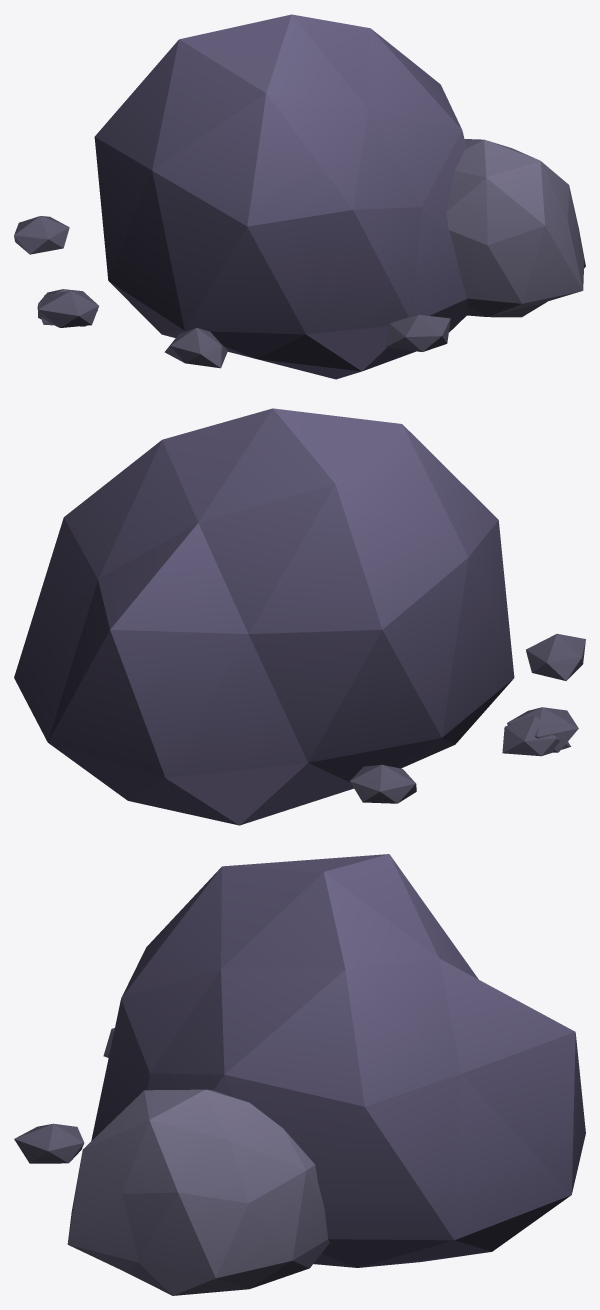
Rendered from boulder.glb.
The picture shows the model from 3 angles, top to bottom: view 1: azimuth 30°, elevation 25°; view 2: azimuth 150°, elevation 25°; view 3: azimuth 270°, elevation 25°; orthographic projection. The views are drawn at different scales.
Parts seen in each view (by area): view 1: t0_rock, t0_rock_light; view 2: t0_rock, t0_rock_light; view 3: t0_rock, t0_rock_light.
Boxes of the visible parts, x1,y1,x2,y2 form: t0_rock: (94,14,467,379); t0_rock_light: (14,139,585,368); t0_rock: (14,408,514,825); t0_rock_light: (350,633,585,803); t0_rock: (91,854,585,1267); t0_rock_light: (14,1028,329,1295).
Bounding box in the file's own units: 1.96 × 1.21 × 1.69.
